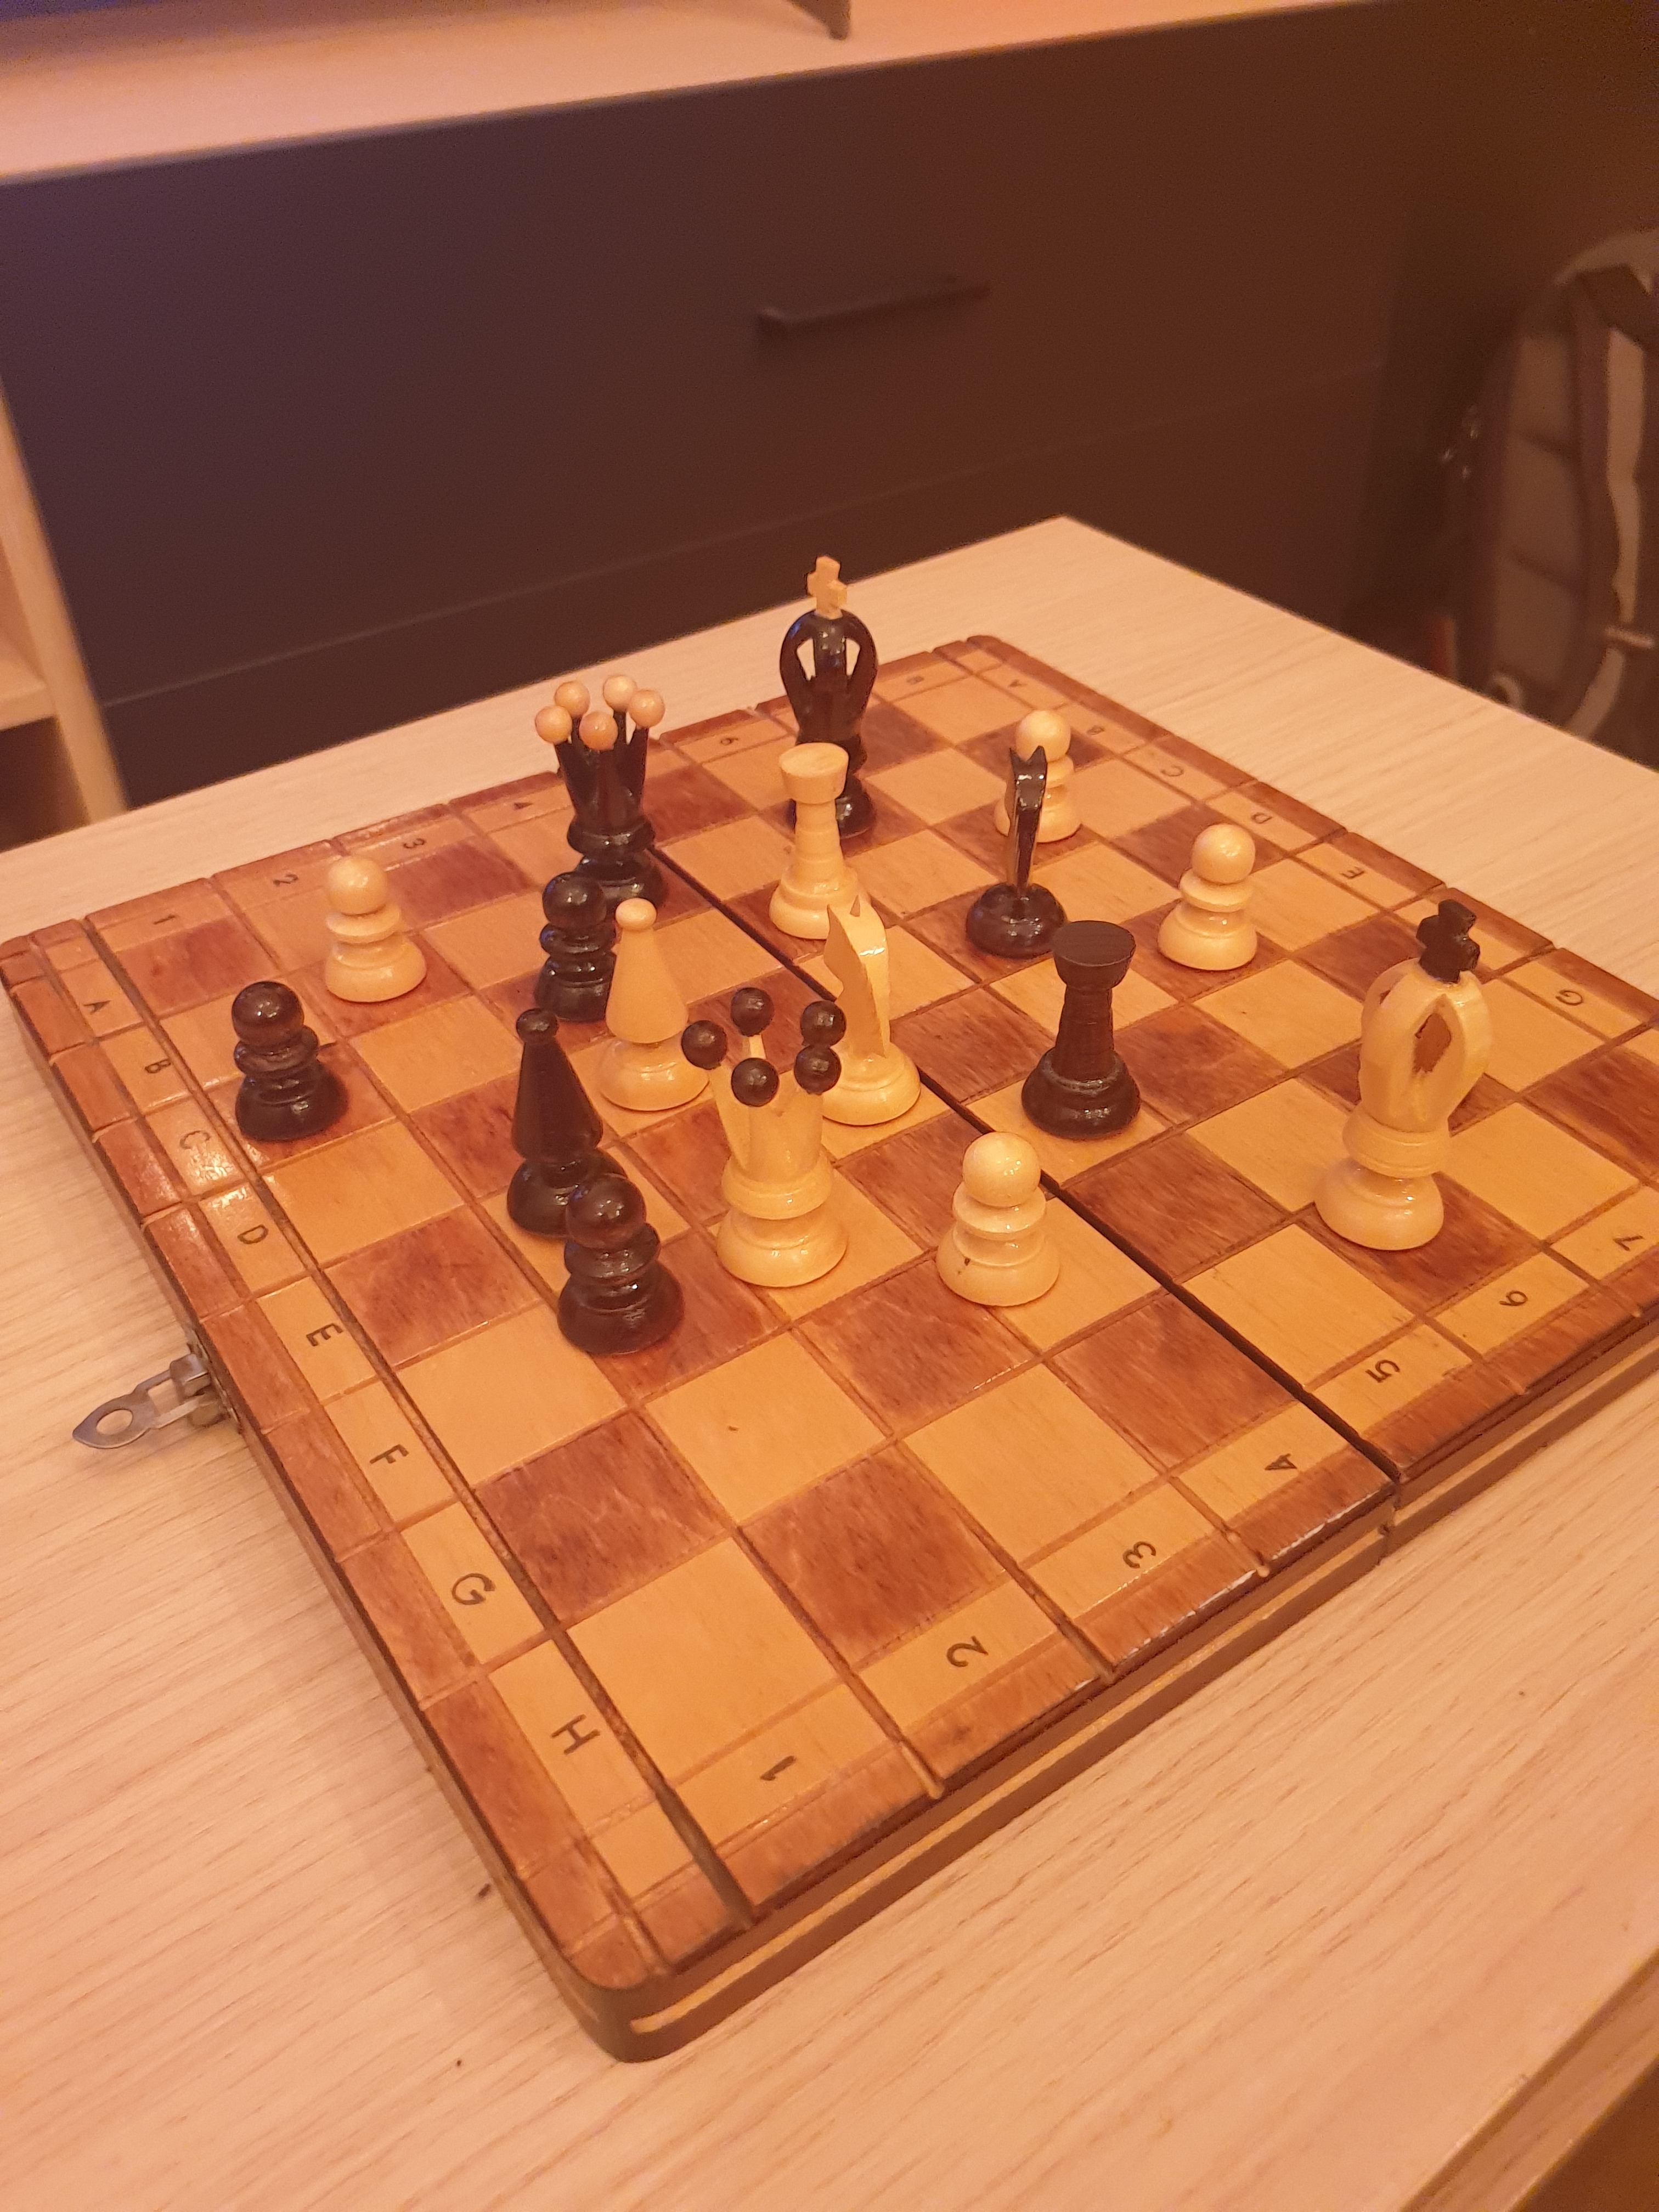bbishop: (495, 991, 640, 1244)
bking: (775, 540, 894, 867)
bknight: (955, 737, 1080, 968)
bpawn: (545, 1162, 692, 1376), (216, 968, 362, 1160), (526, 864, 652, 1036)
bqueen: (519, 653, 685, 942)
brook: (1019, 911, 1159, 1151)
wbishop: (587, 890, 720, 1125)
wking: (1304, 878, 1497, 1278)
wknight: (798, 880, 938, 1143)
wpawn: (927, 1111, 1068, 1315), (310, 843, 439, 1010), (1148, 810, 1270, 986), (983, 693, 1093, 855)
wqueen: (673, 970, 864, 1308)
wrook: (748, 725, 884, 965)
